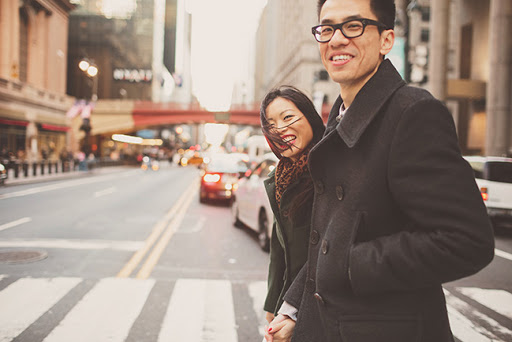Person: (313, 1, 481, 341), (239, 89, 324, 286)
